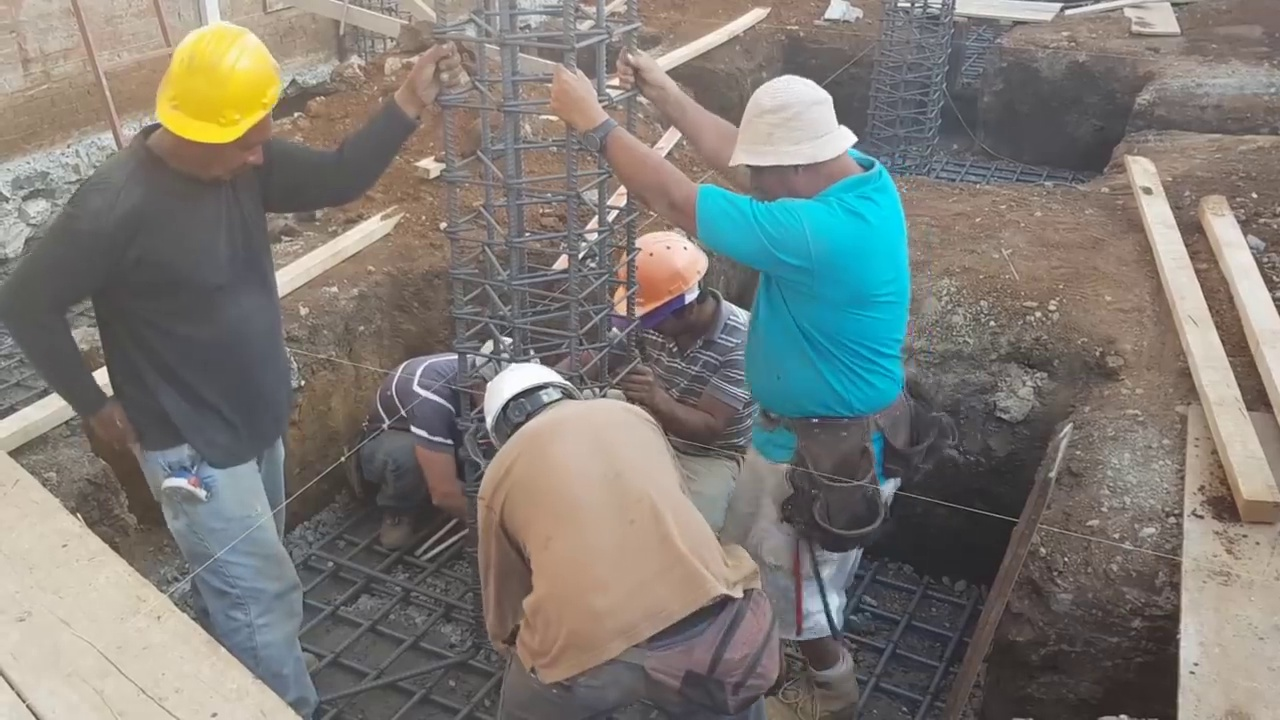helmet: (151, 17, 283, 146), (482, 361, 580, 457), (611, 231, 710, 320)
helmet-off: (722, 75, 871, 207), (468, 339, 537, 412)
helmet-on: (141, 16, 286, 188), (605, 223, 721, 359), (482, 360, 588, 458)
person: (0, 0, 466, 711), (551, 46, 921, 666), (475, 352, 783, 678), (607, 224, 764, 536), (362, 334, 530, 556)
